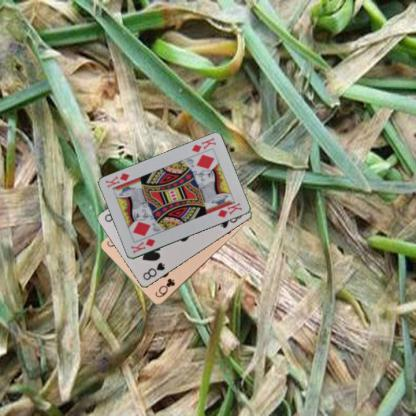6c: (153, 276, 176, 299)
8s: (140, 260, 166, 282)
Kd: (189, 134, 217, 154), (128, 236, 157, 255)
